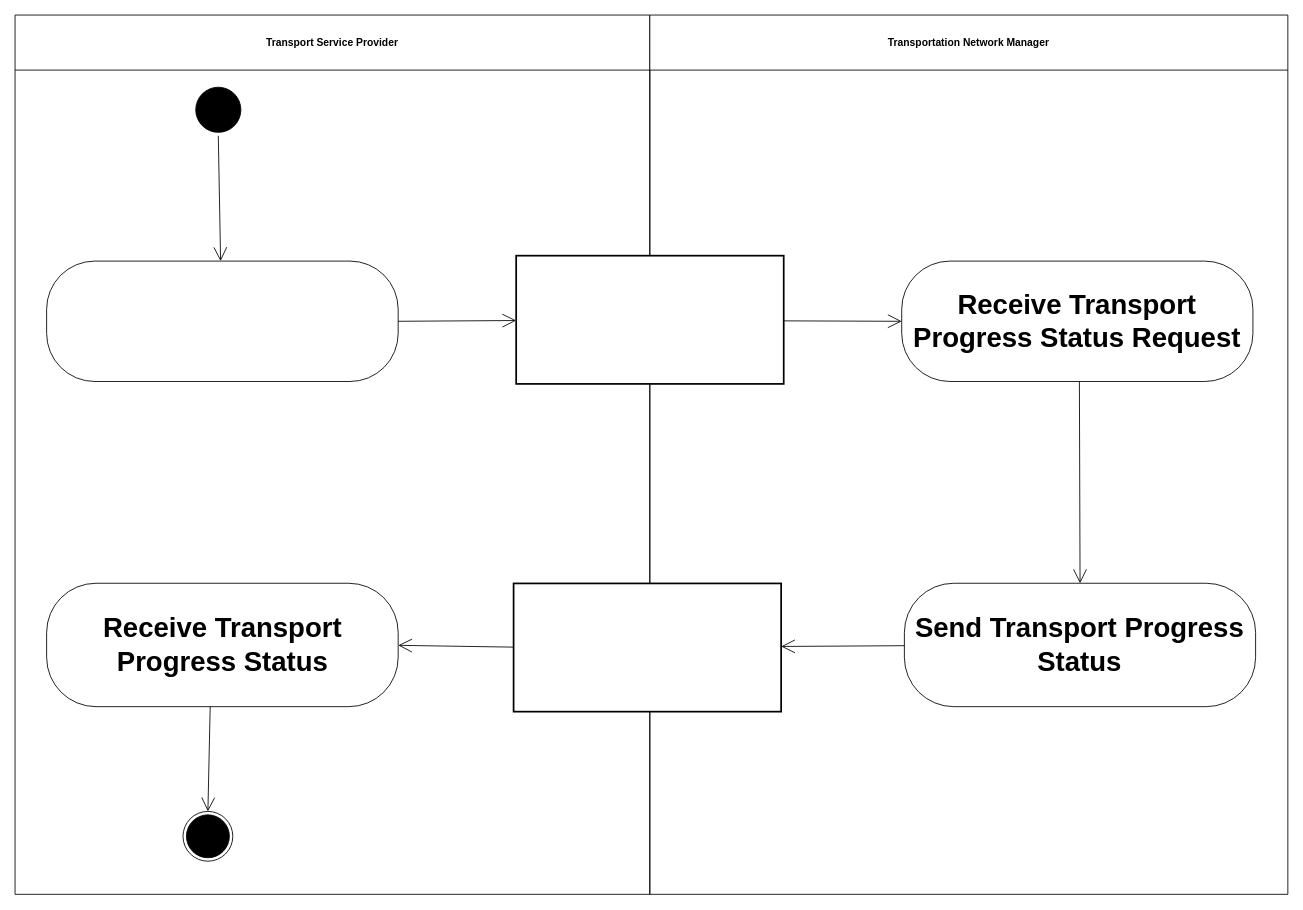
Image size: 1303x910. Some labels were removed from this diagram. The shapes that lost their labels are listed below. From the top down, each one's box as (x1, y1, x2, y2) in pixels, then its label:
(46, 260, 398, 381): Request Transport Progress Status
(515, 254, 784, 384): Transport Progress Status Request
(512, 582, 782, 712): Transport Progress Status
